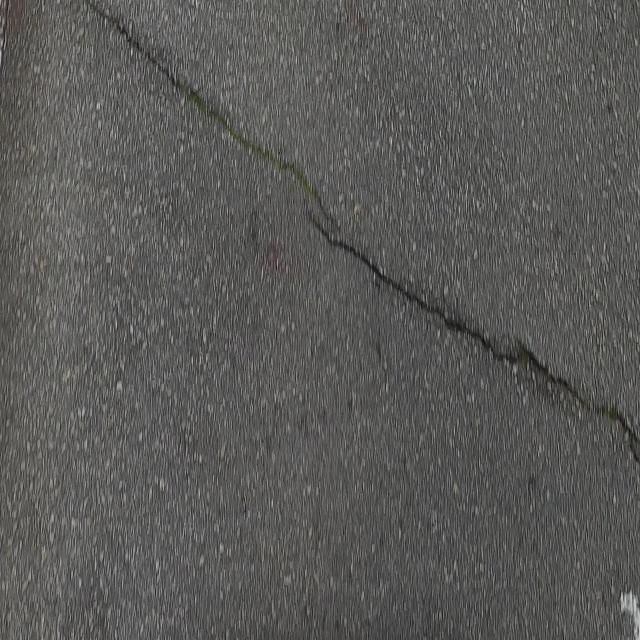Retak-Melintang: (308, 217, 639, 473), (81, 2, 340, 230)
